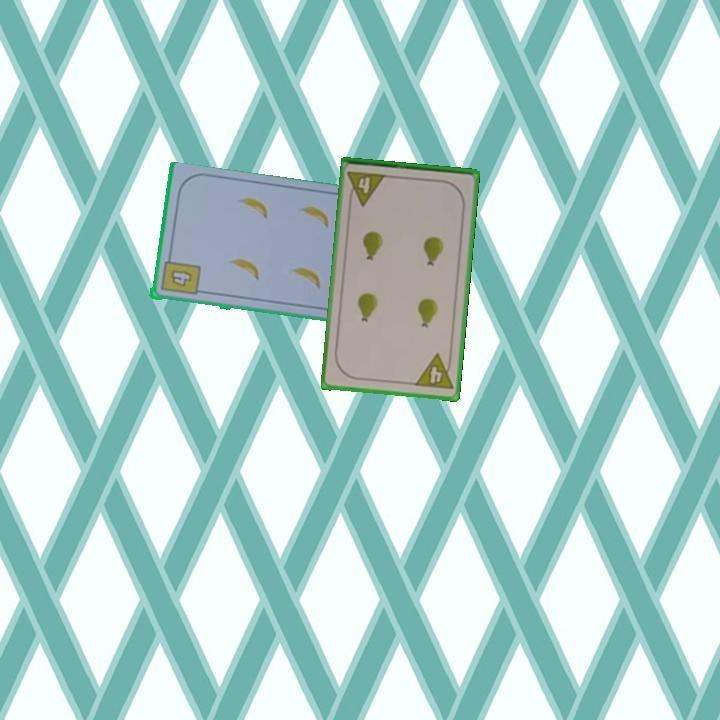4b: (157, 252, 202, 298)
4p: (411, 350, 456, 393), (344, 168, 389, 208)
